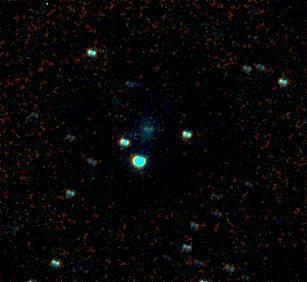star: (28, 0, 58, 17)
